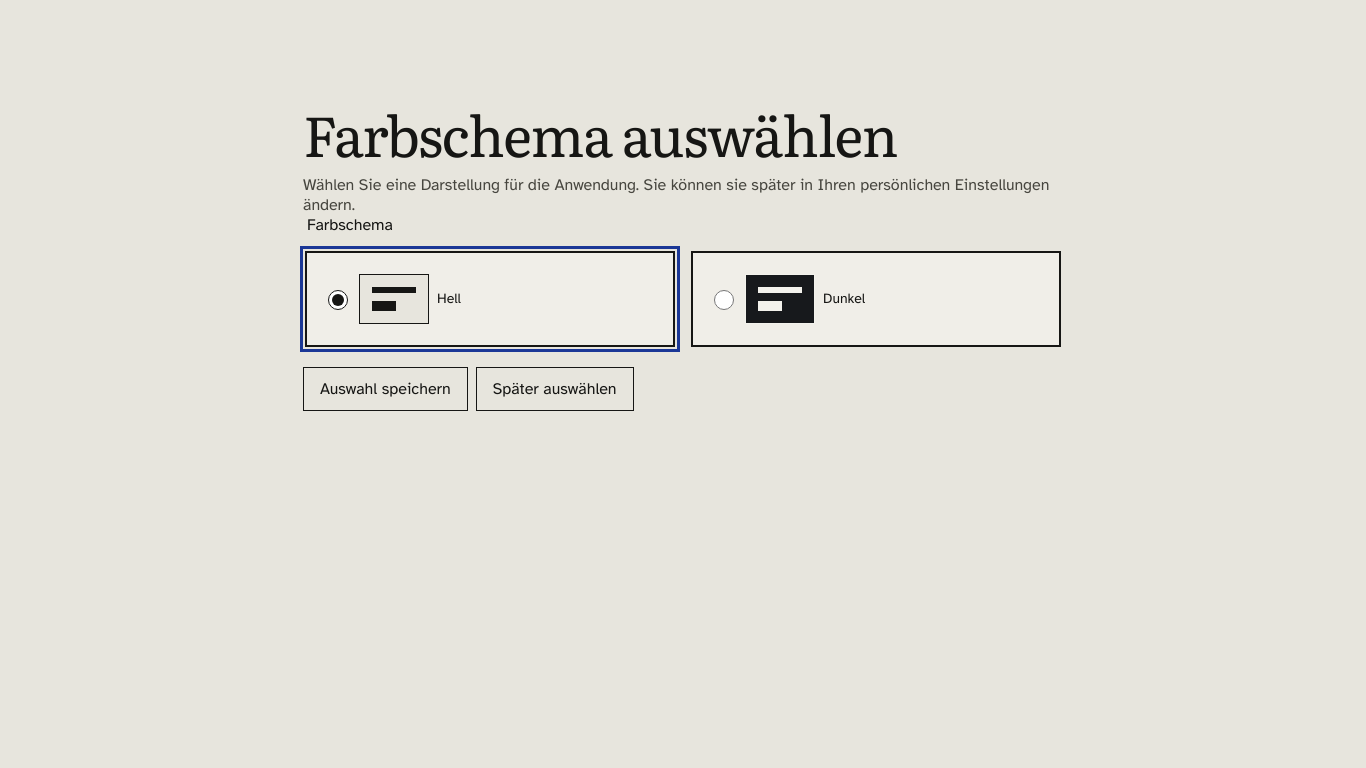
appearance onboarding routes › can skip onboarding and continue to the home page
Expected: the heading "Farbschema auswählen" is shown, [303,91,897,174]
Click the button "Später auswählen" at (555, 389), box [476,367,634,411]
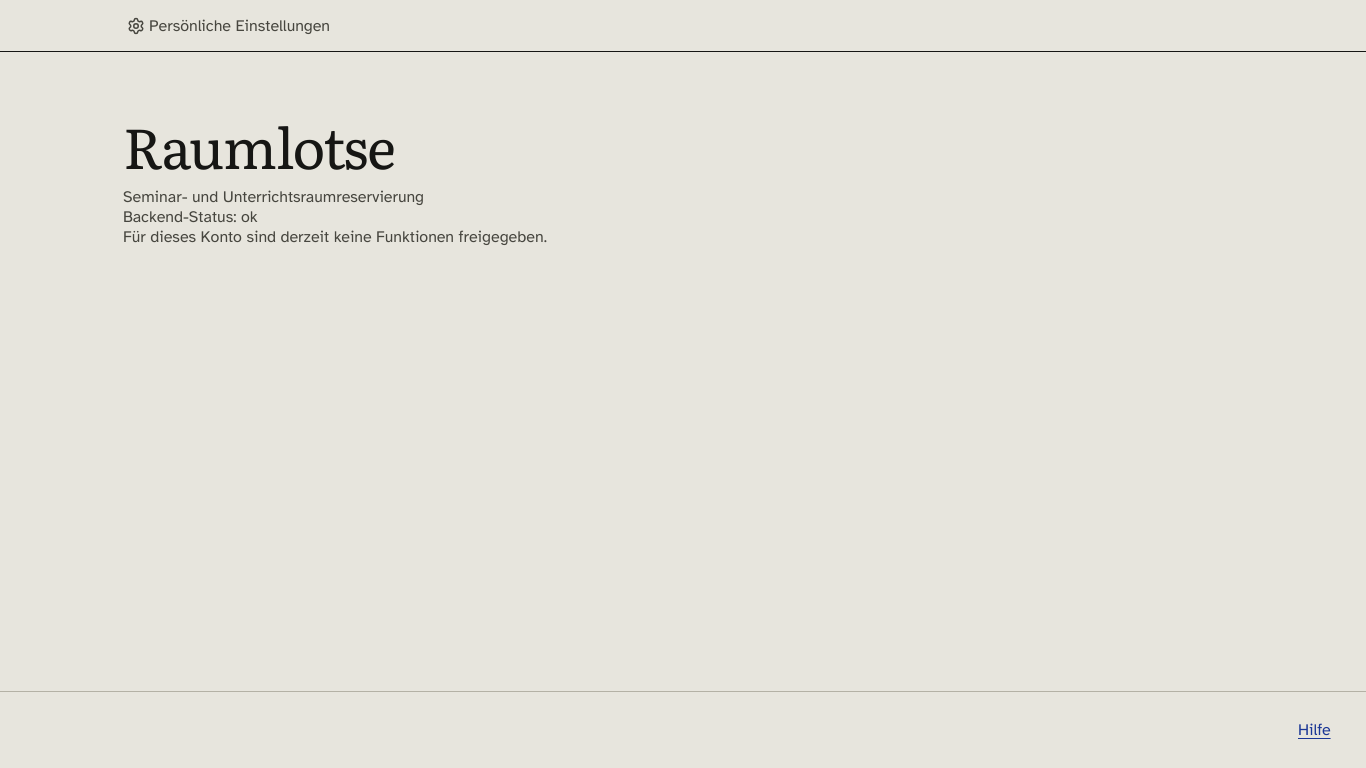
Now the heading "Raumlotse" is shown, box [123,103,395,186]
